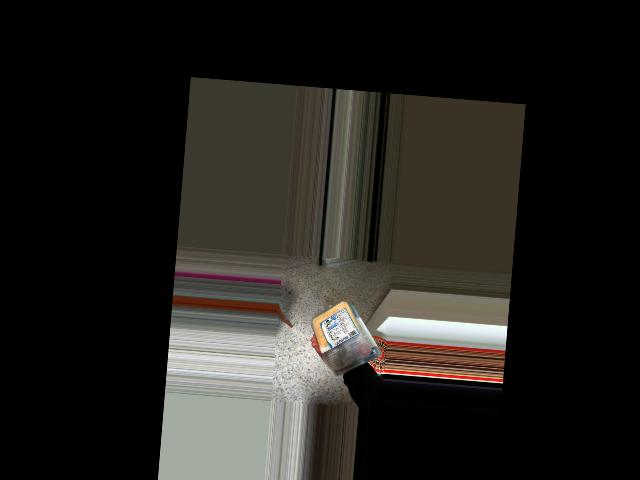cheese: (315, 297, 357, 365)
